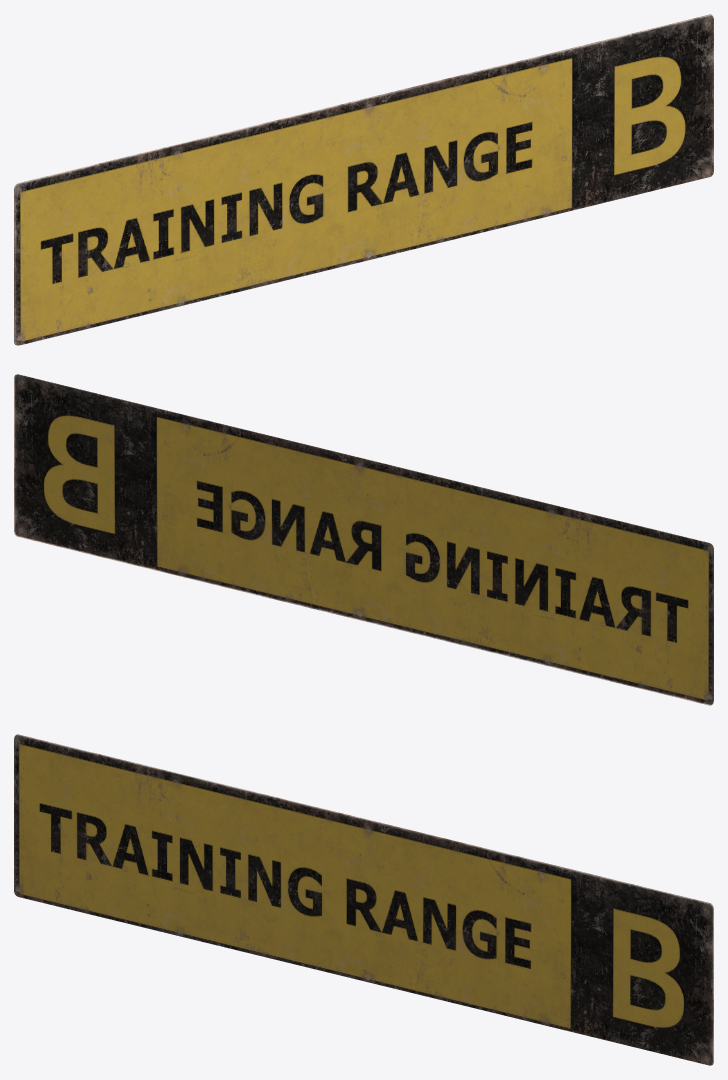
Rendered from SM_Sign_02a.glb.
3 views of the same model, one above another, from view 1: azimuth 30°, elevation 25°; view 2: azimuth 150°, elevation 25°; view 3: azimuth 330°, elevation 25° (orthographic).
Visible parts, largest first — view 1: SM_Sign_02a; view 2: SM_Sign_02a; view 3: SM_Sign_02a.
Part boxes in pixels (x1=…): SM_Sign_02a: x1=14, y1=14, x2=713, y2=345; SM_Sign_02a: x1=14, y1=374, x2=713, y2=705; SM_Sign_02a: x1=14, y1=734, x2=713, y2=1065.
Bounding box in the file's own units: 1.93 × 0.4269 × 0.00402.
Materials: 1 (1 with a texture image).
